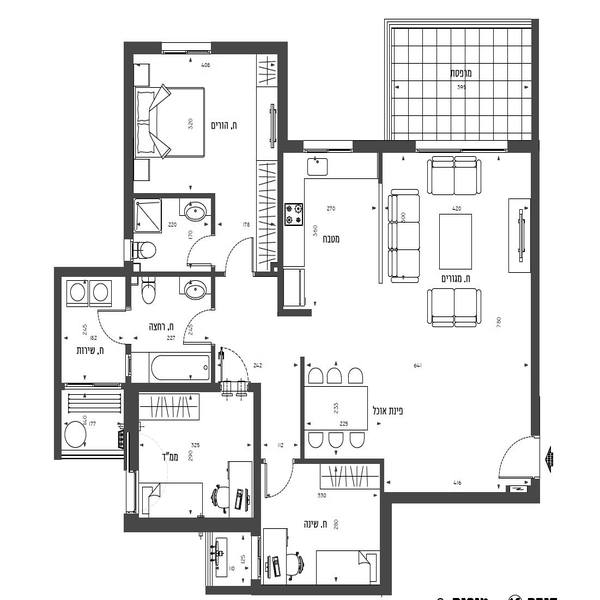door: (87, 302, 143, 346), (497, 436, 540, 480), (175, 310, 220, 348), (216, 345, 256, 382), (261, 461, 300, 498), (185, 233, 222, 269), (228, 237, 261, 273)
room: (273, 138, 544, 316), (297, 310, 542, 500), (122, 28, 285, 280), (44, 261, 288, 387), (123, 378, 264, 531), (257, 453, 393, 594), (48, 265, 129, 459)
wall: (528, 17, 544, 437), (198, 581, 410, 600), (119, 41, 136, 239), (118, 511, 252, 534), (50, 267, 65, 457), (247, 384, 263, 538), (387, 490, 539, 503), (273, 44, 291, 153), (124, 384, 144, 473), (277, 149, 286, 312), (128, 380, 227, 394), (378, 489, 392, 586), (295, 454, 385, 467), (354, 136, 415, 155), (208, 40, 290, 54), (297, 356, 307, 458), (53, 266, 133, 278), (133, 268, 228, 278), (137, 192, 215, 203), (206, 191, 221, 234), (127, 39, 165, 55), (207, 258, 220, 303), (283, 307, 314, 322), (205, 345, 217, 380), (124, 273, 132, 307), (504, 141, 529, 150)
window: (419, 140, 507, 154), (304, 135, 355, 156), (121, 470, 145, 510), (161, 38, 208, 57), (253, 532, 267, 576)
